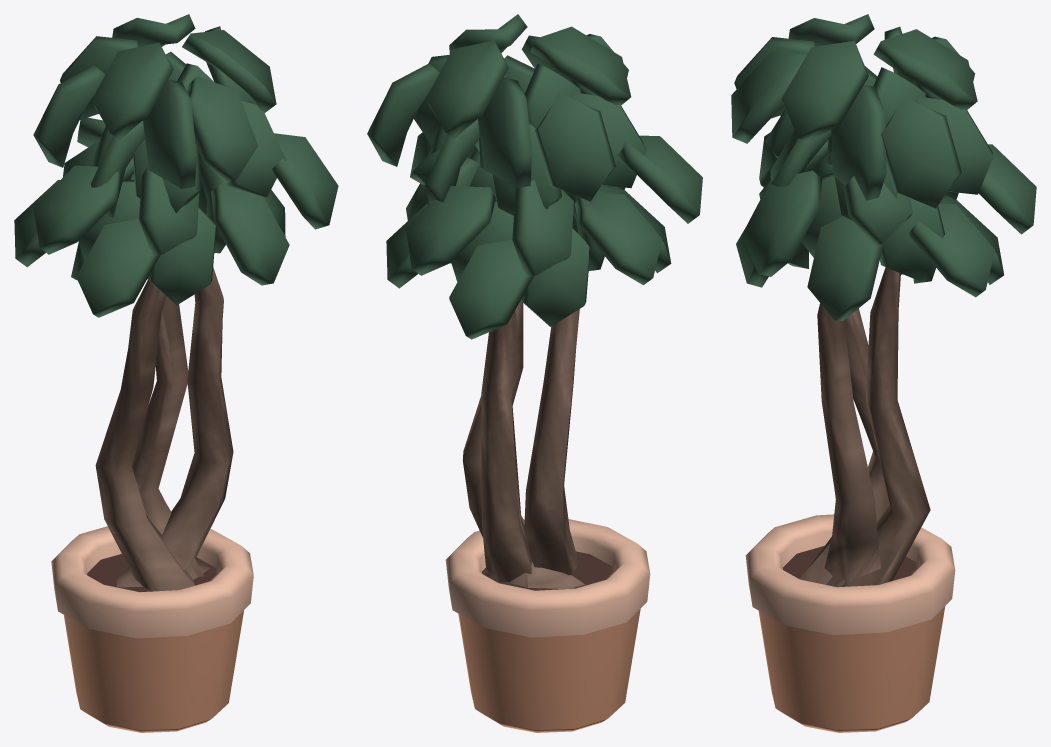
The model's file is flower_018.fbx.
3 views of the same model, side by side, from view 1: azimuth 30°, elevation 25°; view 2: azimuth 150°, elevation 25°; view 3: azimuth 270°, elevation 25° (orthographic). The views are drawn at different scales.
Visible parts, largest first — view 1: flower_018; view 2: flower_018; view 3: flower_018.
Part boxes in pixels (x1,y1,x2,y2): flower_018: [14, 14, 338, 732]; flower_018: [367, 14, 702, 732]; flower_018: [731, 14, 1036, 732].
Bounding box in the file's own units: 76.13 × 68.84 × 170.
